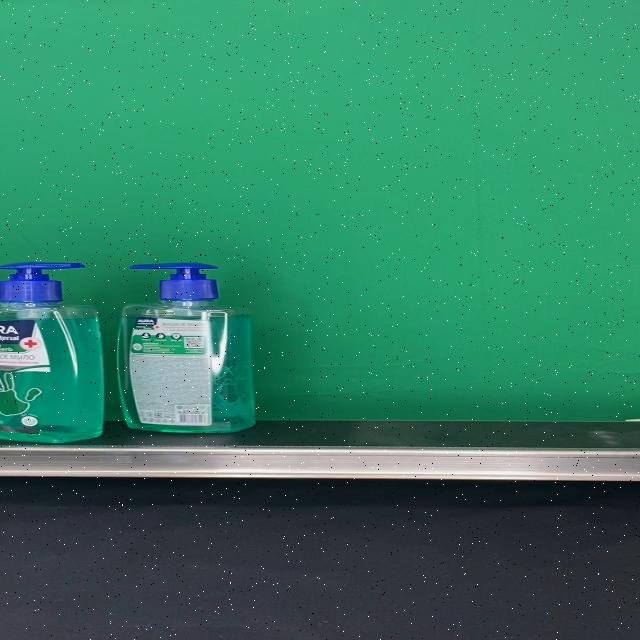Bottle: (116, 263, 256, 433), (0, 261, 104, 442)
Cap: (130, 263, 220, 303), (0, 262, 87, 302)
